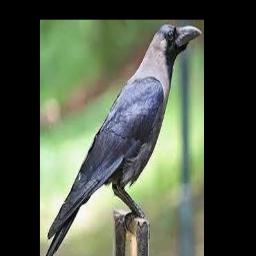Crow: (44, 25, 203, 256)
